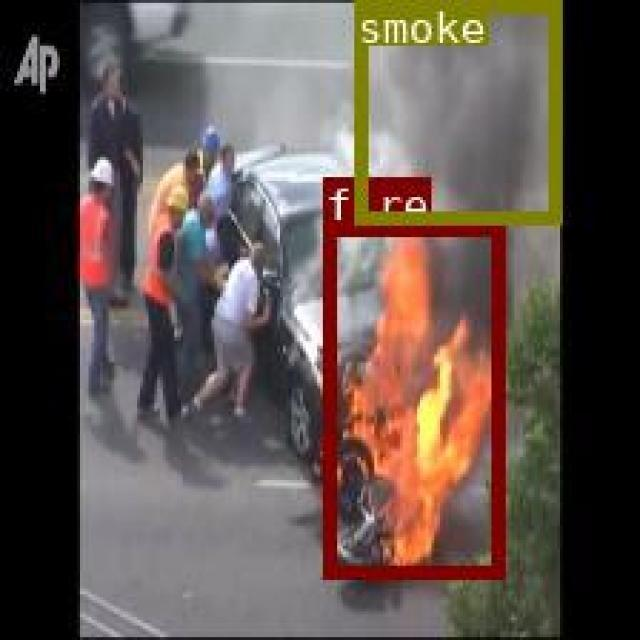fire: (320, 221, 501, 576)
smoke: (352, 0, 557, 220)
